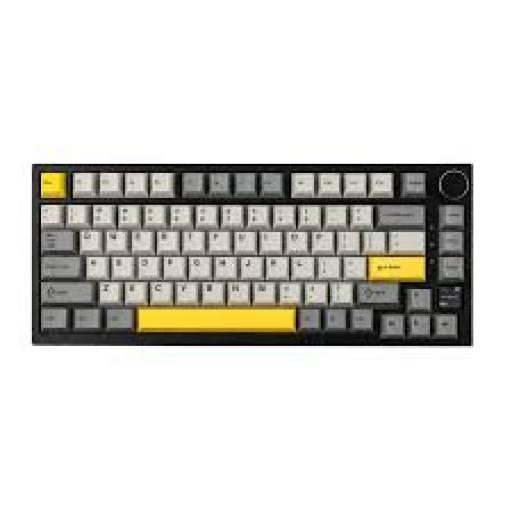keyboard: (34, 164, 471, 341)
